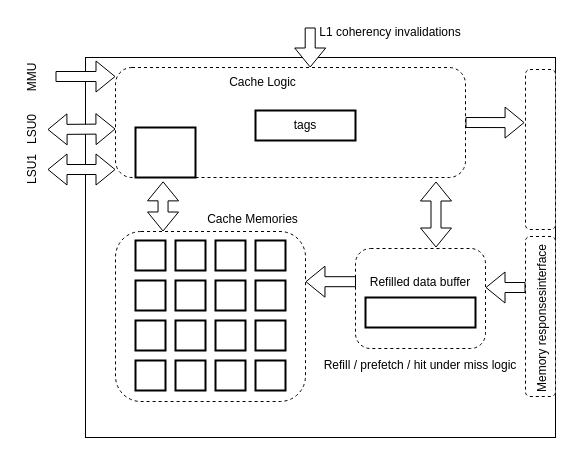
Image size: 574x455. Some labels were removed from this diagram. Here are the shapes that lost their labels. From the top down, the centre of each, then its label:
(165,152): way predictor
(540,149): Memory requests interface
